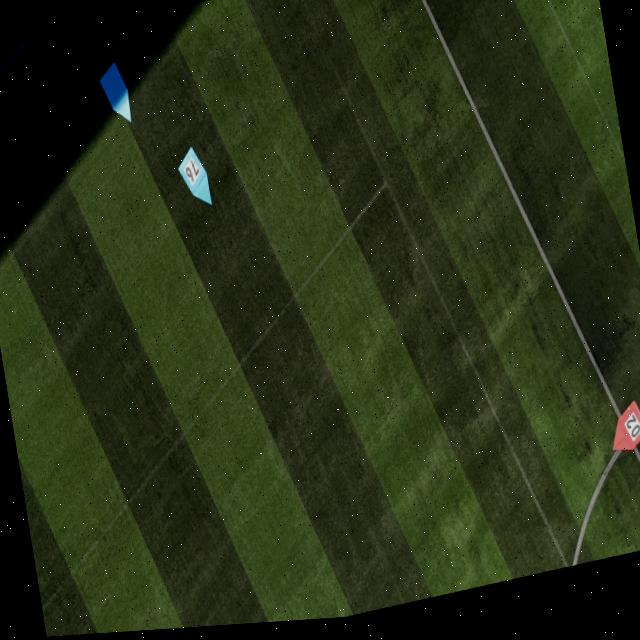board: (178, 147, 213, 209), (100, 62, 132, 125), (613, 408, 640, 460)
